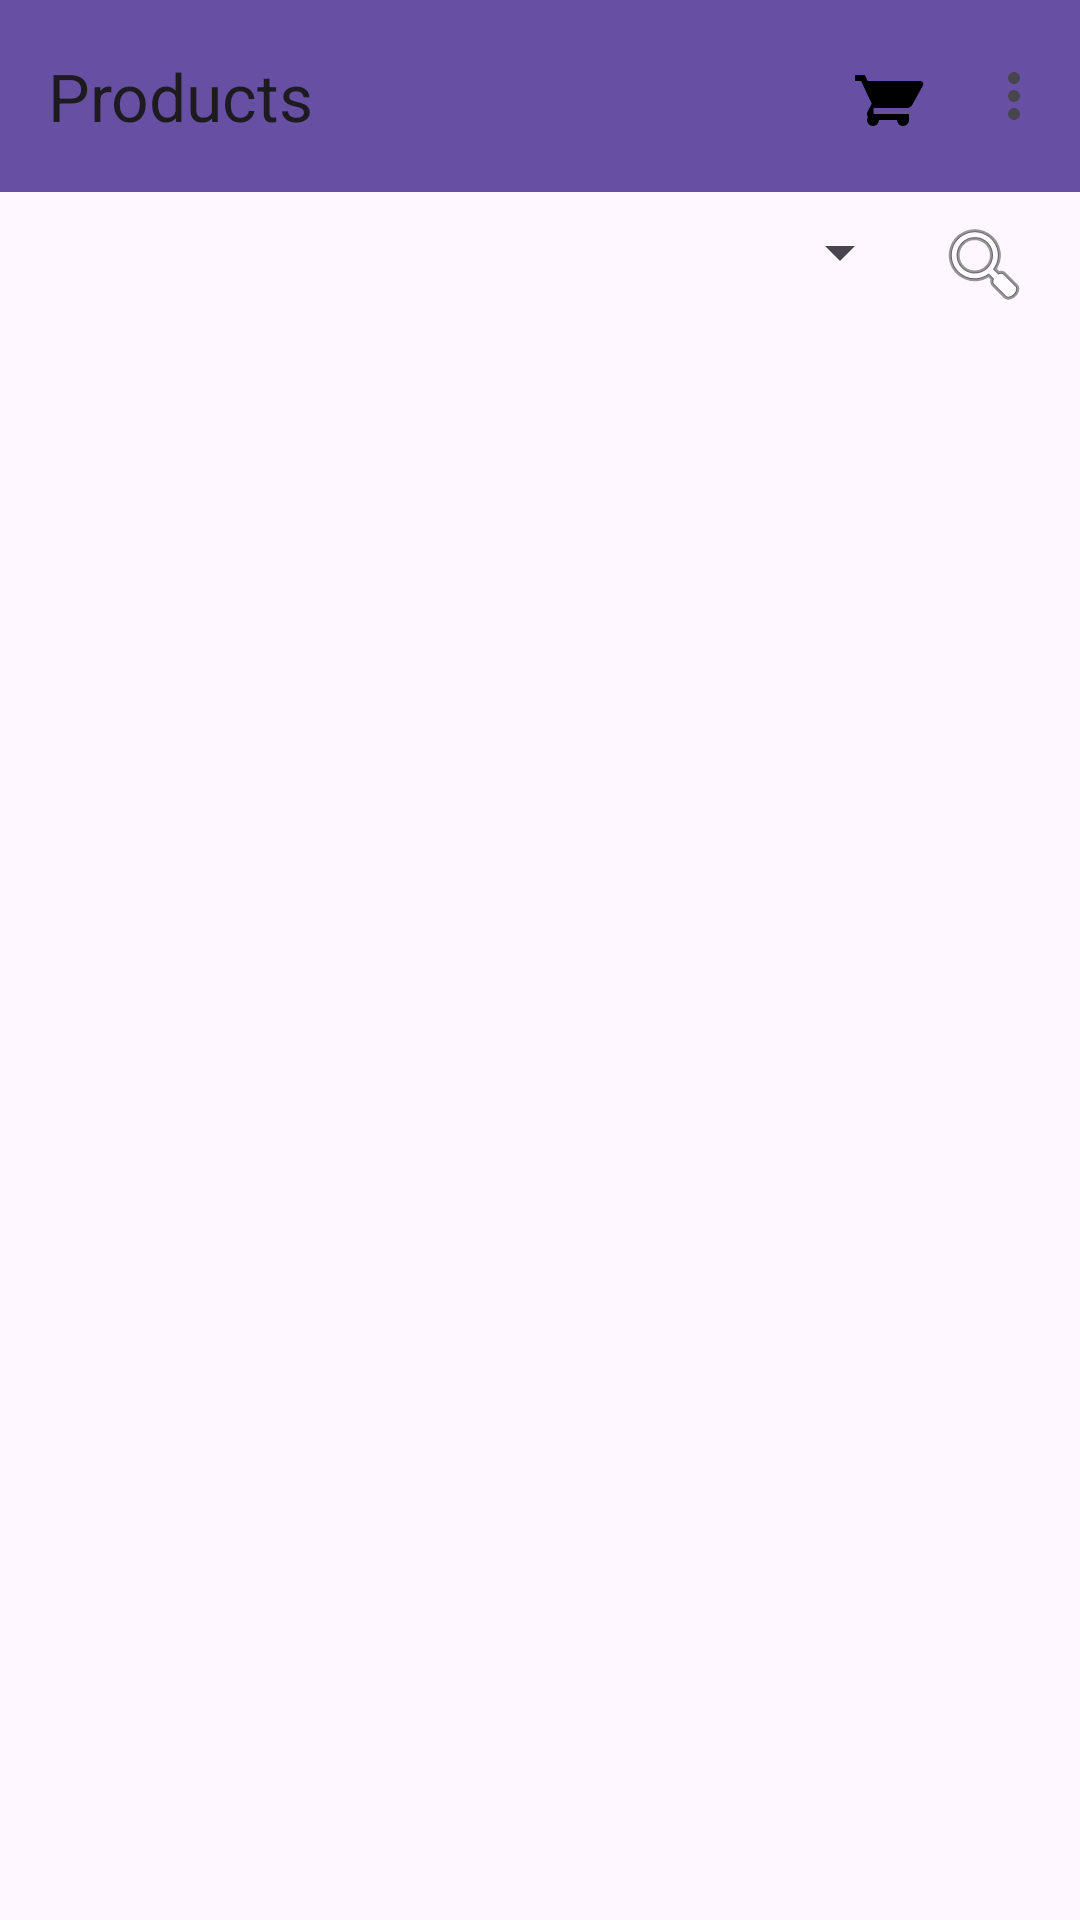

Where icons sit on this 1080px×1920px app screen, as (x1, y1, x2, y2):
search: (948, 229, 1020, 300)
